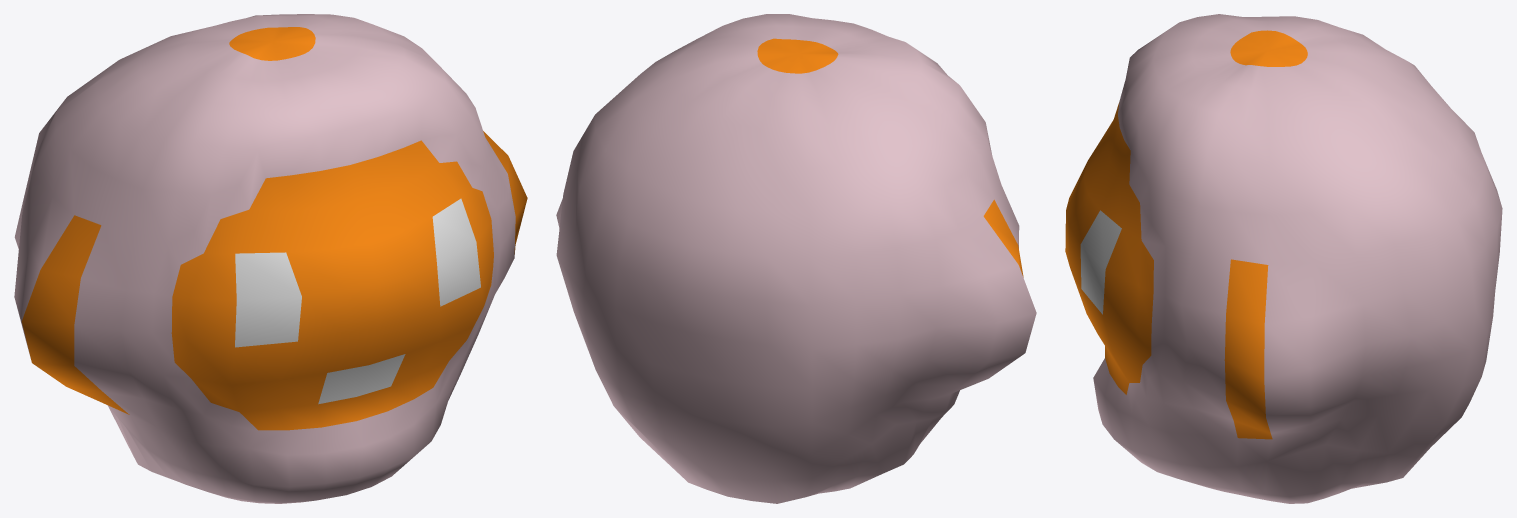
Rendered from head-o.gltf.
3 views of the same model, side by side, from view 1: azimuth 30°, elevation 25°; view 2: azimuth 150°, elevation 25°; view 3: azimuth 270°, elevation 25° (orthographic). The views are drawn at different scales.
Visible parts, largest first — view 1: Sphere; view 2: Sphere; view 3: Sphere.
Part boxes in pixels (<box>): Sphere: <box>14,14,527,503</box>; Sphere: <box>556,14,1036,503</box>; Sphere: <box>1065,14,1502,503</box>.
Bounding box in the file's own units: 2.76 × 2.33 × 2.13.
